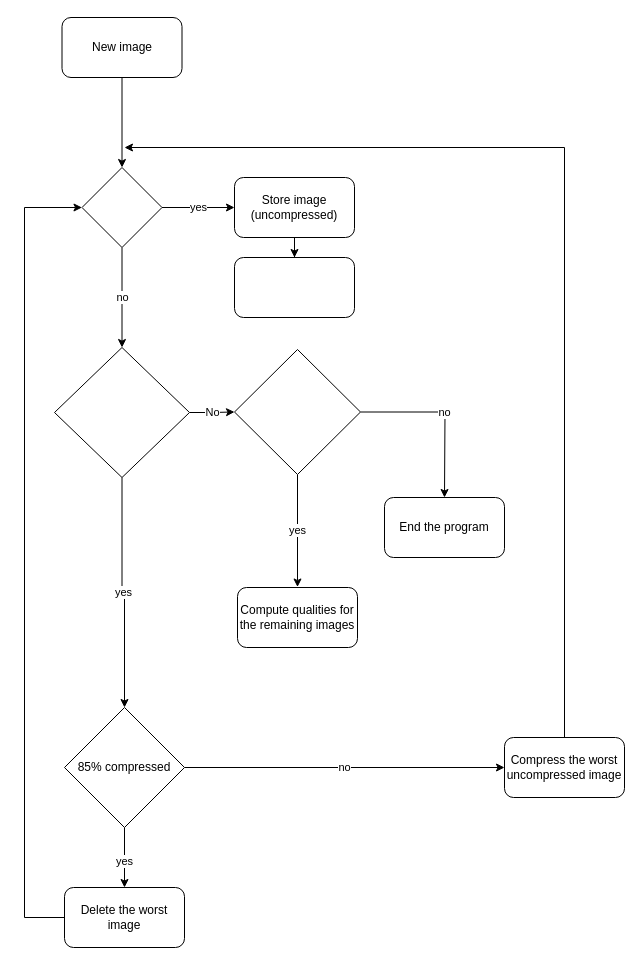
The diagram is 642 pixels wide and 965 high, and some of its shapes have lost their labels. Each missing label, with the centre of its shape:
"Analyse it" goes at (294,287).
"Are there any not deleted images" goes at (297,411).
"Are there any not deleted images with a quality" goes at (122,412).
"Is there enough storage" goes at (121,207).
